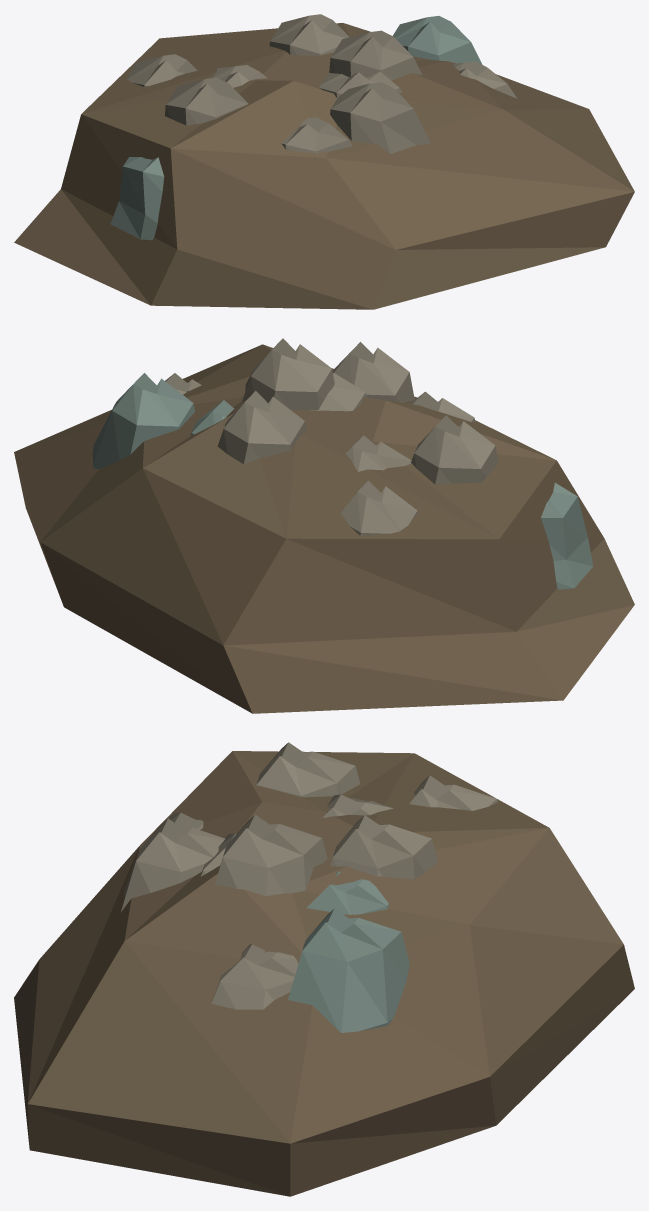
The model's file is spoil-heap.glb.
3 renders of one model, top to bottom at view 1: azimuth 30°, elevation 25°; view 2: azimuth 150°, elevation 25°; view 3: azimuth 270°, elevation 25°, orthographic. The views are drawn at different scales.
Parts seen in each view (by area): view 1: spoil-heap; view 2: spoil-heap; view 3: spoil-heap.
Boxes of the visible parts, bbox=[...] form: spoil-heap: bbox=[14, 14, 634, 309]; spoil-heap: bbox=[14, 338, 634, 713]; spoil-heap: bbox=[14, 742, 634, 1196].
Size of the model in its own units: 2.32 by 0.7929 by 1.82.
